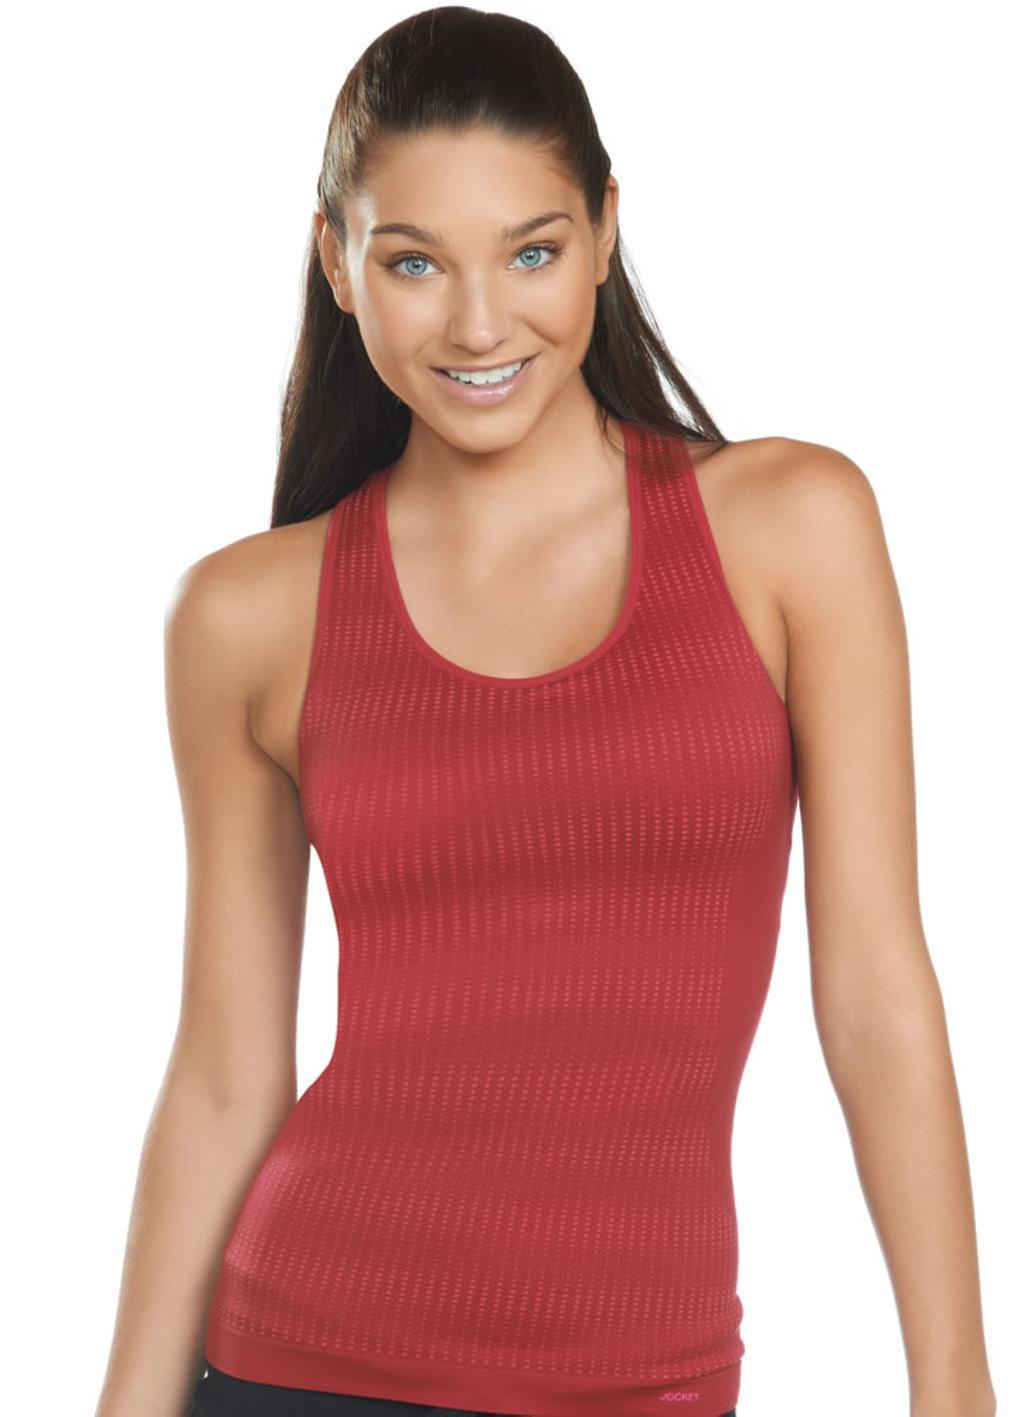face: (364, 148, 591, 444)
